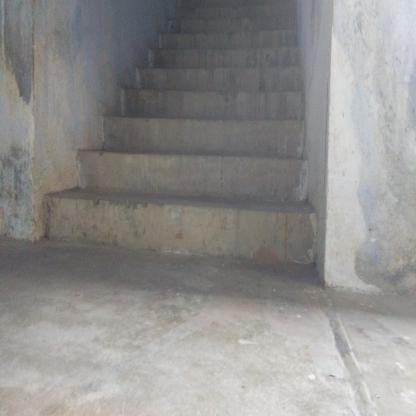stairs: (45, 90, 306, 258)
